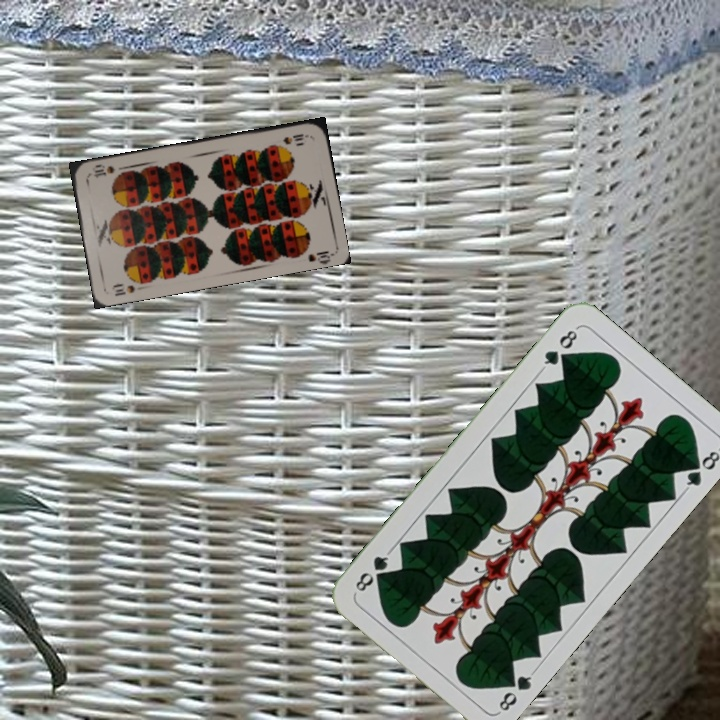G8: (494, 667, 538, 716), (538, 324, 581, 373)
S10: (108, 279, 147, 298), (279, 130, 311, 147)
